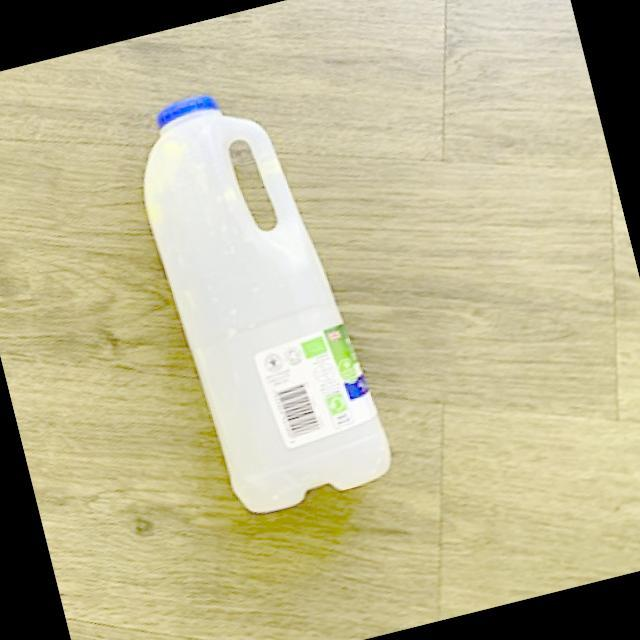HDPE Plastic: (139, 90, 398, 521)
